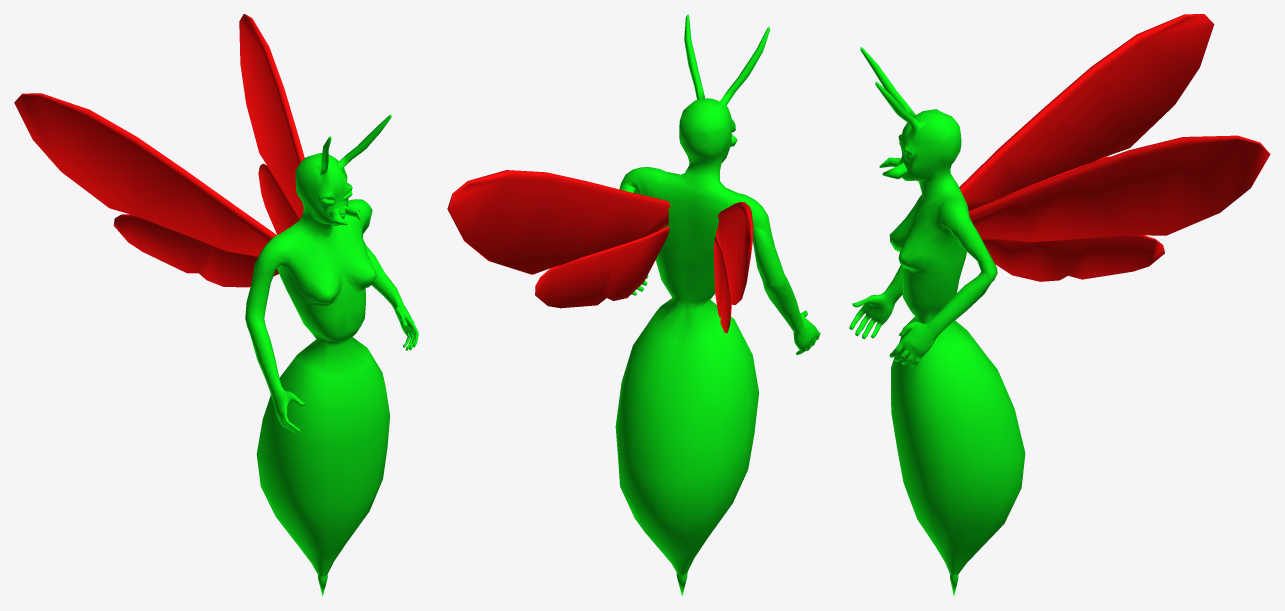
3 views of the same model, side by side, from view 1: azimuth 30°, elevation 25°; view 2: azimuth 150°, elevation 25°; view 3: azimuth 270°, elevation 25° (orthographic). The views are drawn at different scales.
Parts seen in each view (by area): view 1: Avispa; view 2: Avispa; view 3: Avispa.
Part boxes in pixels (<box>): Avispa: <box>14,14,418,596</box>; Avispa: <box>447,14,820,596</box>; Avispa: <box>849,14,1270,595</box>.
Bounding box in the file's own units: 37.91 × 70.62 × 50.68.
